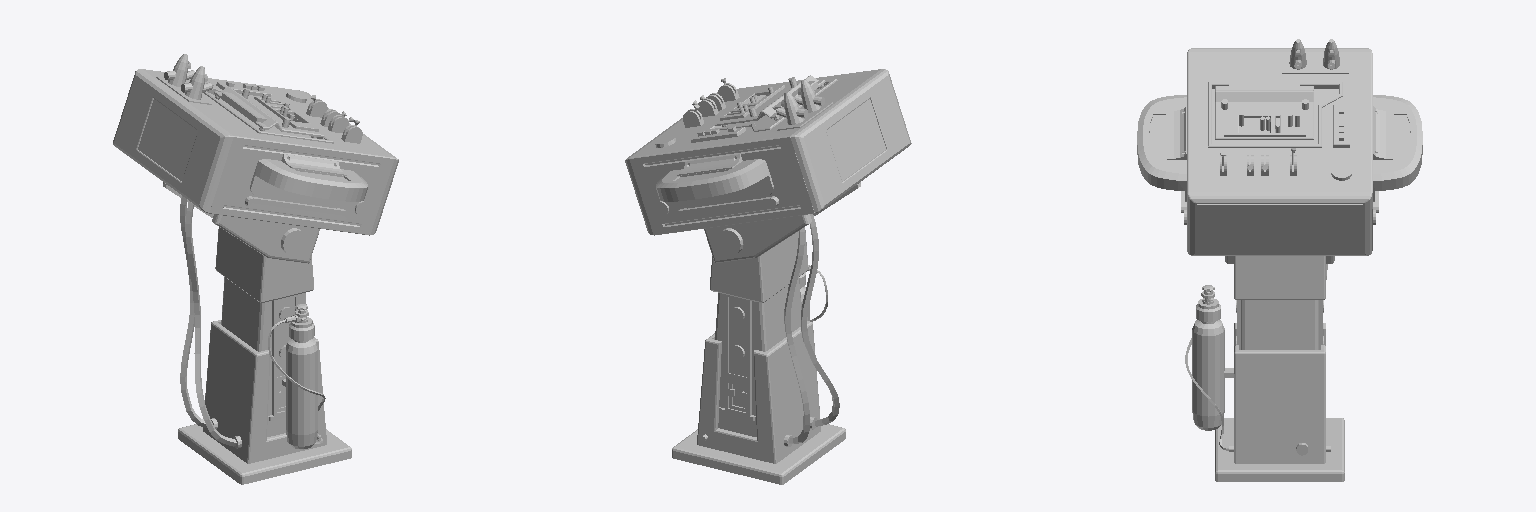
The model's file is medic_console.obj.
3 renders of one model, left to right at view 1: azimuth 30°, elevation 25°; view 2: azimuth 150°, elevation 25°; view 3: azimuth 270°, elevation 25°, orthographic.
Visible parts, largest first — view 1: Mesh_0016.rip; view 2: Mesh_0016.rip; view 3: Mesh_0016.rip.
Boxes of the visible parts, x1,y1,x2,y2 form: Mesh_0016.rip: [113, 54, 398, 484]; Mesh_0016.rip: [625, 69, 911, 484]; Mesh_0016.rip: [1137, 39, 1422, 481].
Bounding box in the file's own units: 0.6968 × 1.3 × 0.8655.